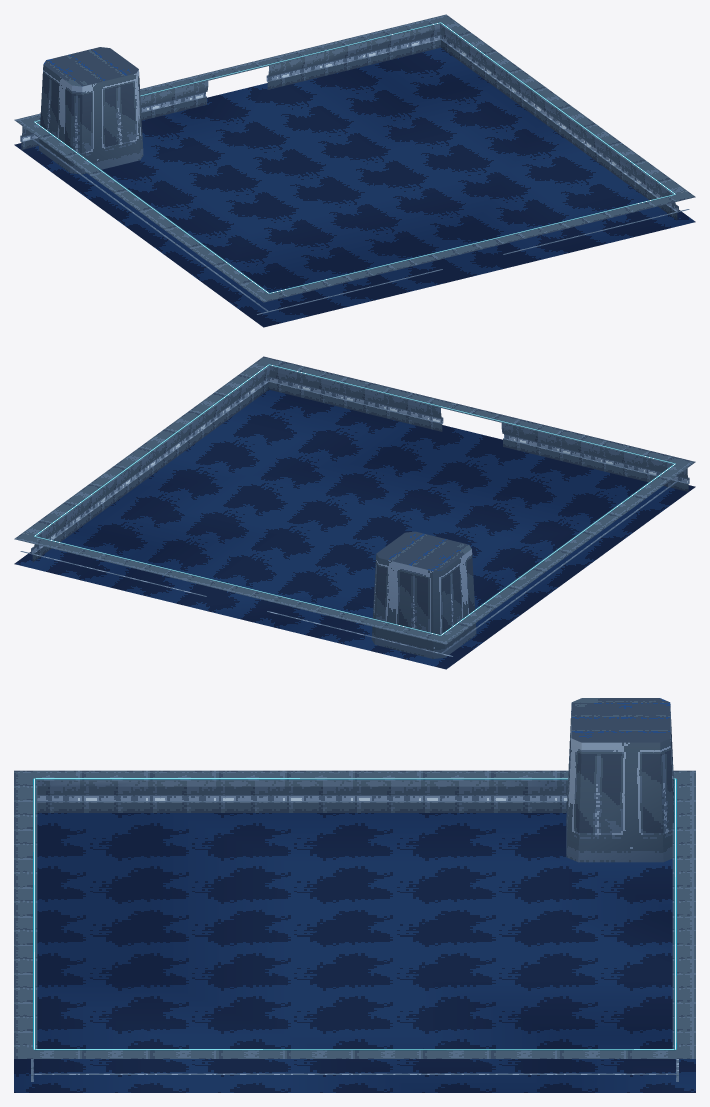
The model's file is cyroom.rooftop__arena.glb.
3 views of the same model, one above another, from view 1: azimuth 30°, elevation 25°; view 2: azimuth 150°, elevation 25°; view 3: azimuth 270°, elevation 25° (orthographic). The views are drawn at different scales.
Parts seen in each view (by area): view 1: kit_shell_floor, kit_shell_walls, kit_trim, kit_card_lights; view 2: kit_shell_floor, kit_shell_walls, kit_trim, kit_card_lights; view 3: kit_shell_floor, kit_shell_walls, kit_trim, kit_card_lights.
Part boxes in pixels (x1,y1,x2,y2): kit_shell_floor: [14, 47, 695, 327]; kit_shell_walls: [14, 14, 695, 314]; kit_trim: [39, 47, 143, 174]; kit_card_lights: [34, 22, 675, 293]; kit_shell_floor: [14, 389, 695, 669]; kit_shell_walls: [14, 356, 695, 656]; kit_trim: [371, 531, 476, 658]; kit_card_lights: [34, 364, 675, 635]; kit_shell_floor: [14, 813, 695, 1092]; kit_shell_walls: [14, 770, 695, 1081]; kit_trim: [566, 698, 673, 862]; kit_card_lights: [33, 778, 676, 1050].
Bounding box in the file's own units: 20 × 3.8 × 20.
Materials: 6 (6 with a texture image).
